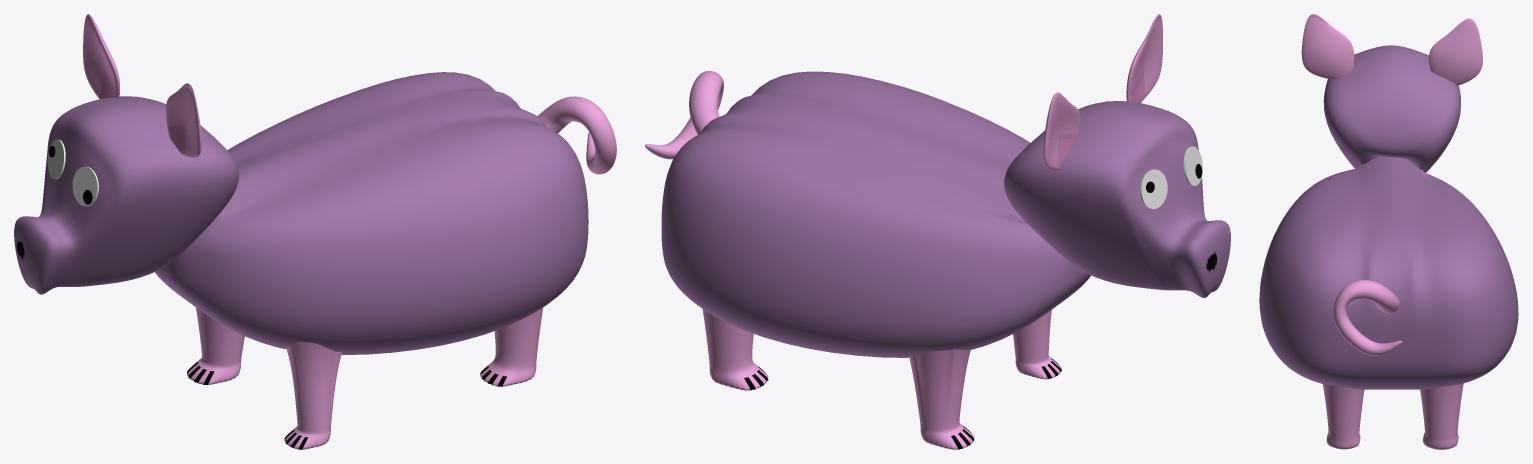
File: pig_.fbx
3 views of the same model, side by side, from view 1: azimuth 30°, elevation 25°; view 2: azimuth 150°, elevation 25°; view 3: azimuth 270°, elevation 25° (orthographic). The views are drawn at different scales.
Visible parts, largest first — view 1: Cube; view 2: Cube; view 3: Cube.
Part boxes in pixels (left/top/right/bottom): Cube: left=14, top=14, right=616, bottom=449; Cube: left=645, top=14, right=1230, bottom=449; Cube: left=1259, top=14, right=1518, bottom=449.
Bounding box in the file's own units: 487 × 318 × 248.
